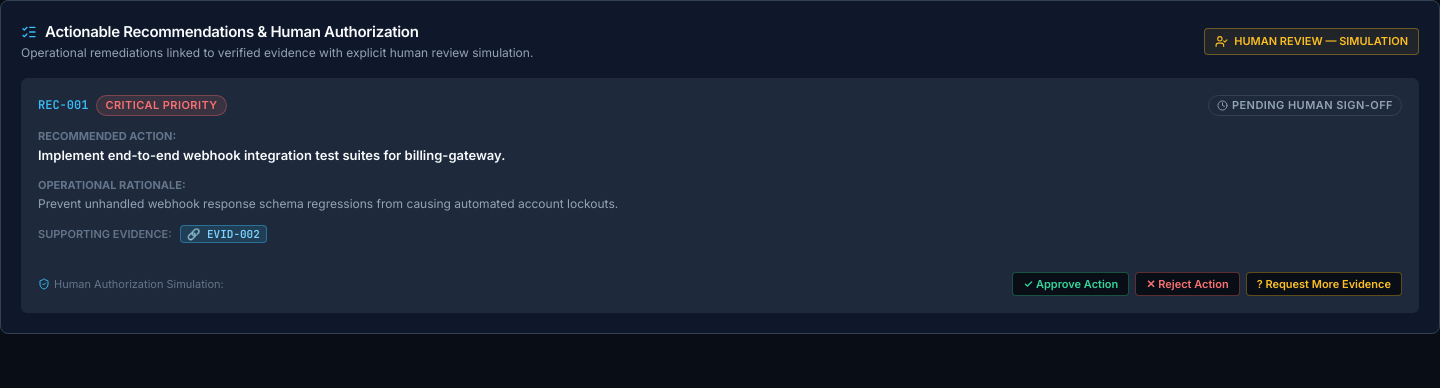
Test case: RecommendationsSection component › simulates human approval when Approve Action is clicked
The width and height of the screenshot is (1440, 388).
Click the button "✓ Approve Action". click: {"x": 1071, "y": 284}
box: [1012,272,1129,296]
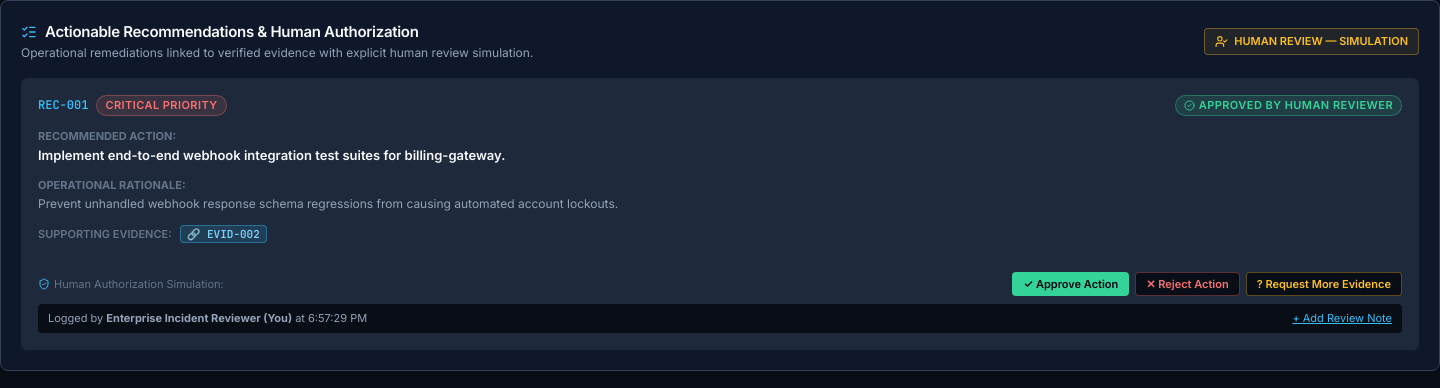
Expected: the text "Approved by Human Reviewer" is shown, [1175,94,1402,116]
Expected: the text "Logged by Enterprise Incident Reviewer (You) at 6:57:29 PM" is shown, [48,310,367,327]
